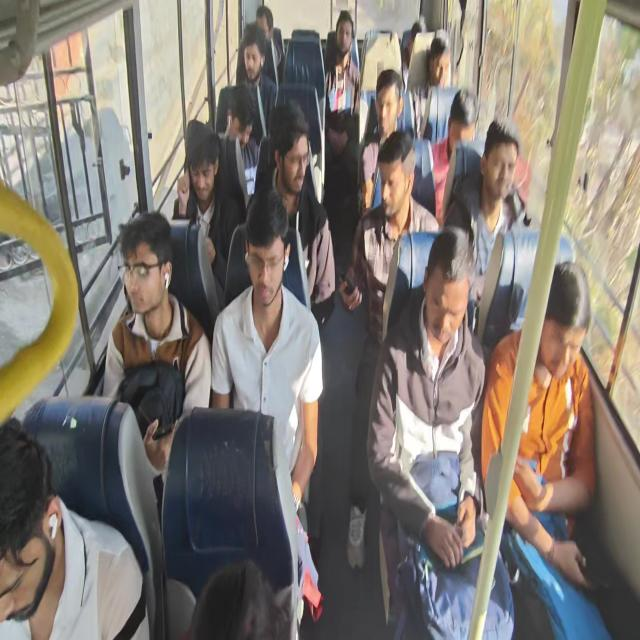person: (0, 433, 64, 636), (239, 200, 293, 316), (424, 242, 475, 362), (115, 224, 166, 311), (538, 279, 578, 369), (272, 124, 320, 198), (382, 143, 413, 225), (482, 130, 512, 198), (186, 136, 216, 203), (226, 104, 254, 158), (450, 94, 473, 152), (427, 40, 452, 91), (237, 39, 265, 83), (252, 1, 274, 51), (374, 85, 398, 123), (334, 17, 354, 59), (410, 20, 429, 59)
